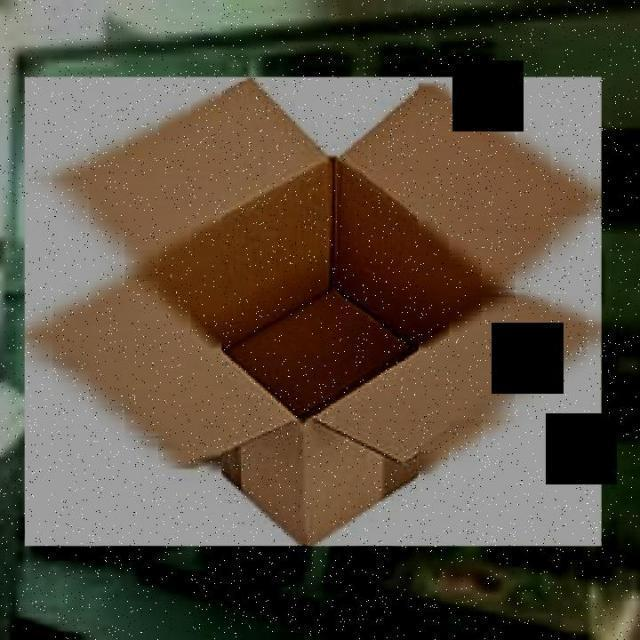box: (16, 70, 612, 555)
